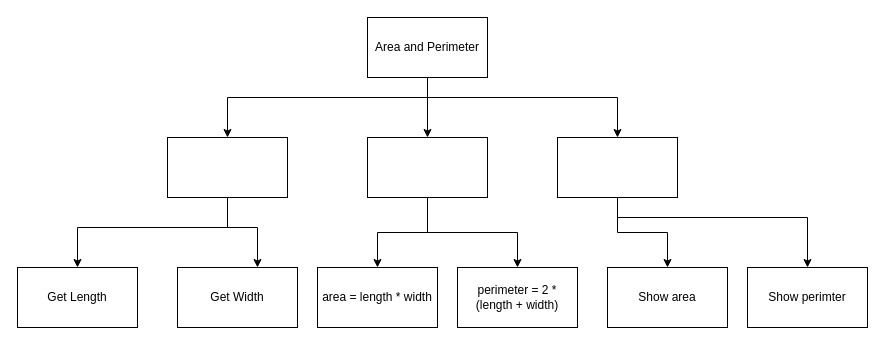
This 885x345 diagram has some shape labels left out. The shapes that lost their labels are listed below. From the top down, each one's centre as x and y in pixels, then its label:
point 227,167: Input
point 427,167: Process
point 617,167: Output
